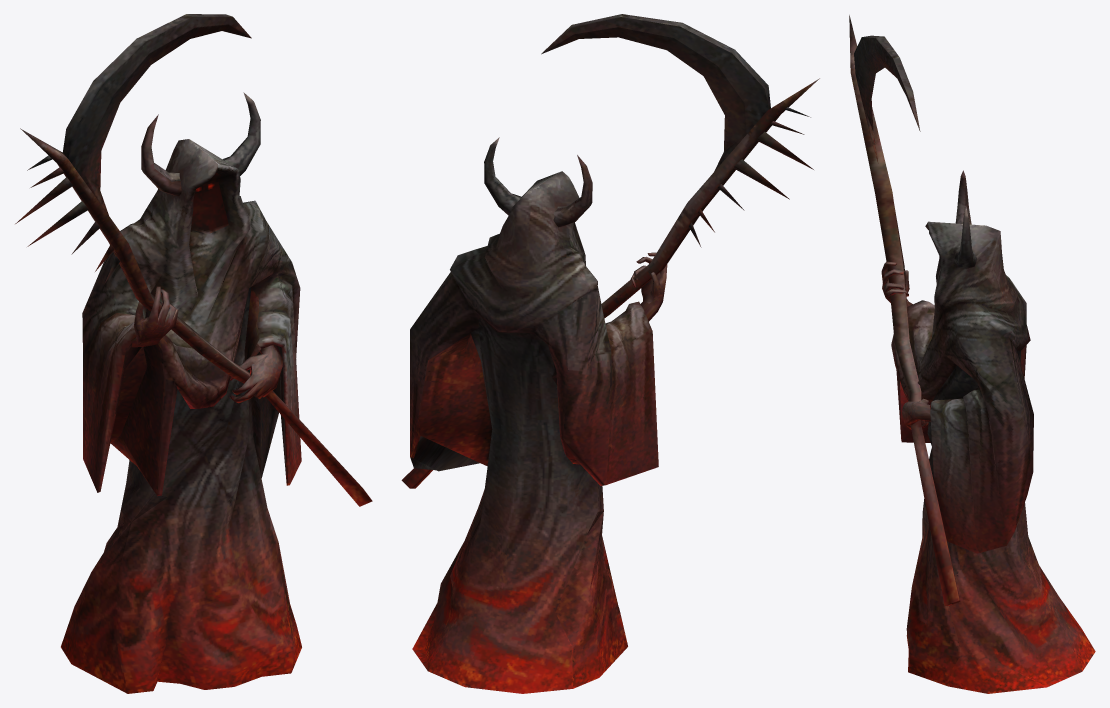
The model's file is otherworld_statue_02.fbx.
3 views of the same model, side by side, from view 1: azimuth 30°, elevation 25°; view 2: azimuth 150°, elevation 25°; view 3: azimuth 270°, elevation 25° (orthographic). The views are drawn at different scales.
Parts seen in each view (by area): view 1: otherworld_statue_02; view 2: otherworld_statue_02; view 3: otherworld_statue_02.
Part boxes in pixels (box(x1,y1,x2,y2)): otherworld_statue_02: box(15, 14, 372, 693); otherworld_statue_02: box(401, 14, 819, 693); otherworld_statue_02: box(849, 15, 1095, 693).
Size of the model in its own units: 4.94 by 7.94 by 3.11.
